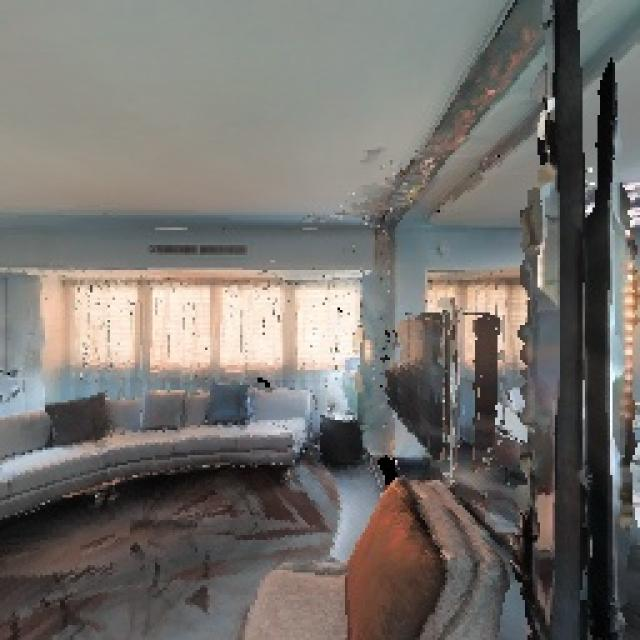sofa: (220, 458, 531, 640), (0, 365, 315, 513)
